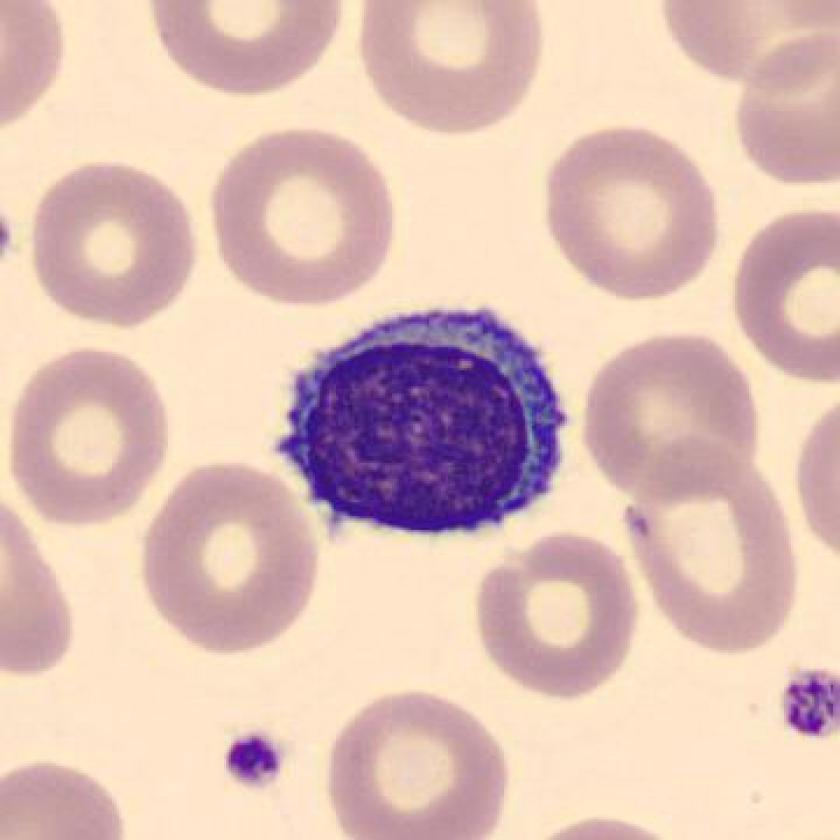lymphocyte: (260, 290, 582, 552)
